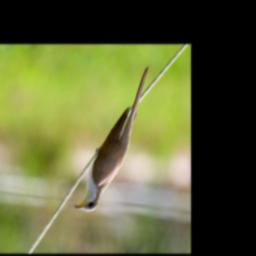Cuckoo: (73, 61, 151, 213)
